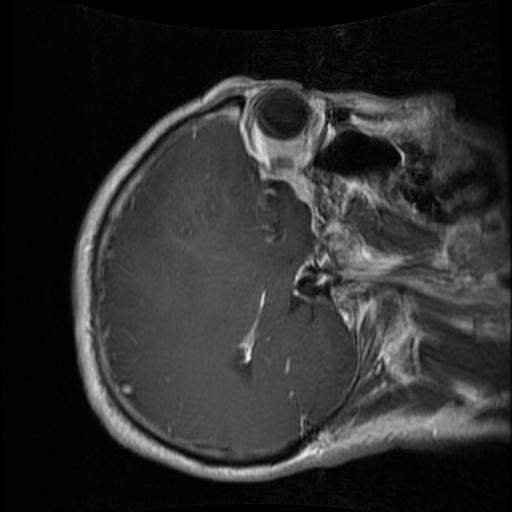glioma: (162, 187, 226, 247)
